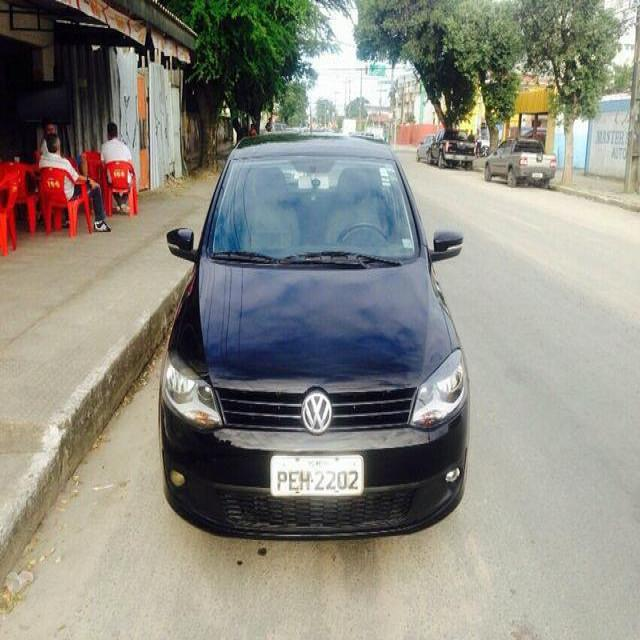Placa: (266, 451, 367, 501)
